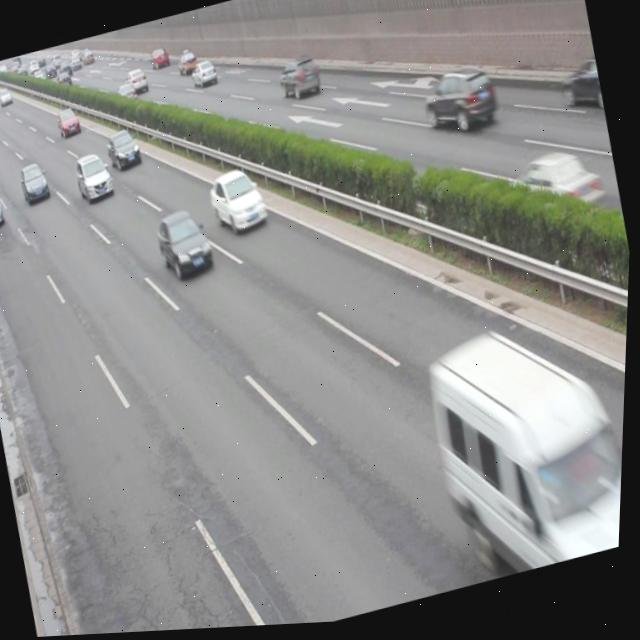car: (503, 145, 608, 248), (419, 64, 503, 145), (205, 163, 273, 243), (152, 205, 219, 286), (554, 61, 606, 123), (275, 51, 325, 108), (73, 148, 118, 206), (105, 126, 146, 177), (17, 158, 55, 209), (190, 58, 220, 93), (0, 183, 9, 234)
truck: (420, 308, 630, 593)
